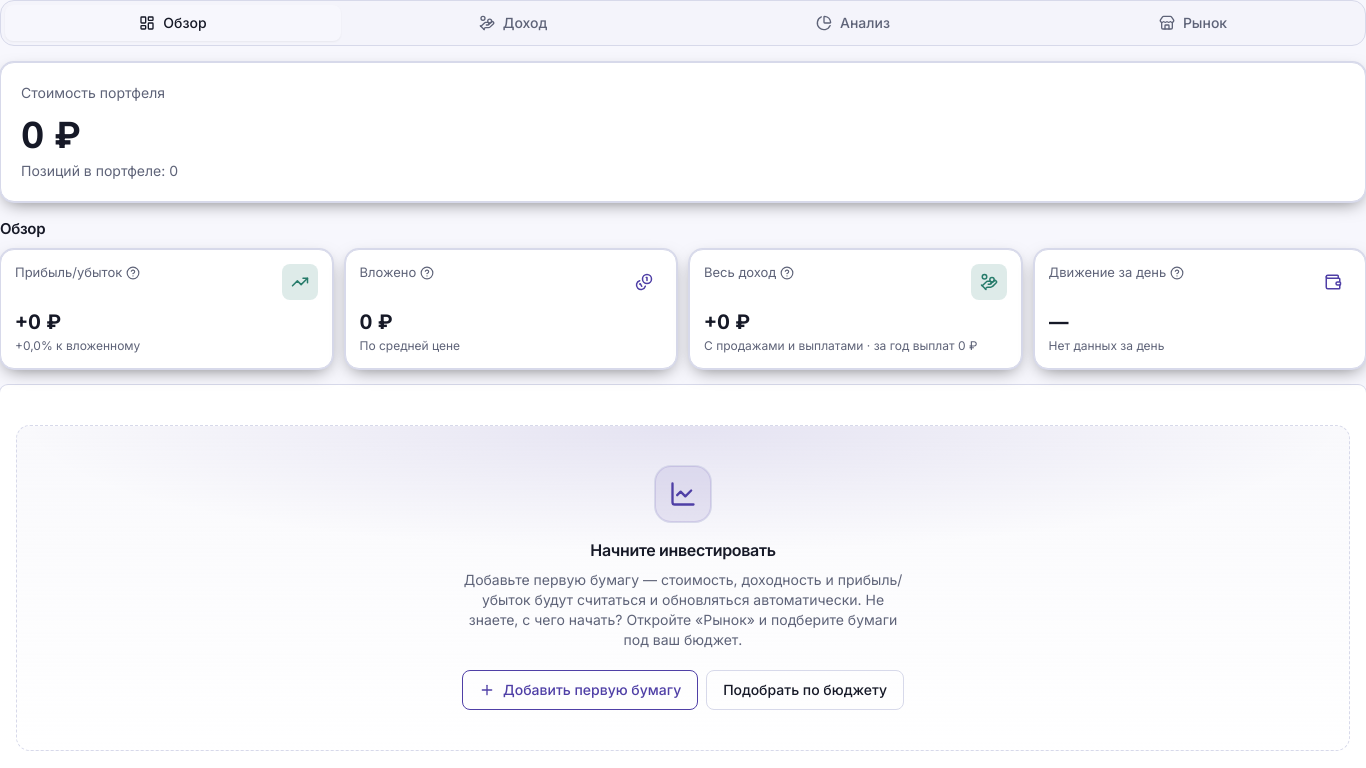
Scenario: manager smoke tests › InvestmentsView shows tabs and the picker on the Рынок tab
This screenshot has width=1366, height=768.
Click the button "Рынок": (1193, 23) [1025,5,1361,41]
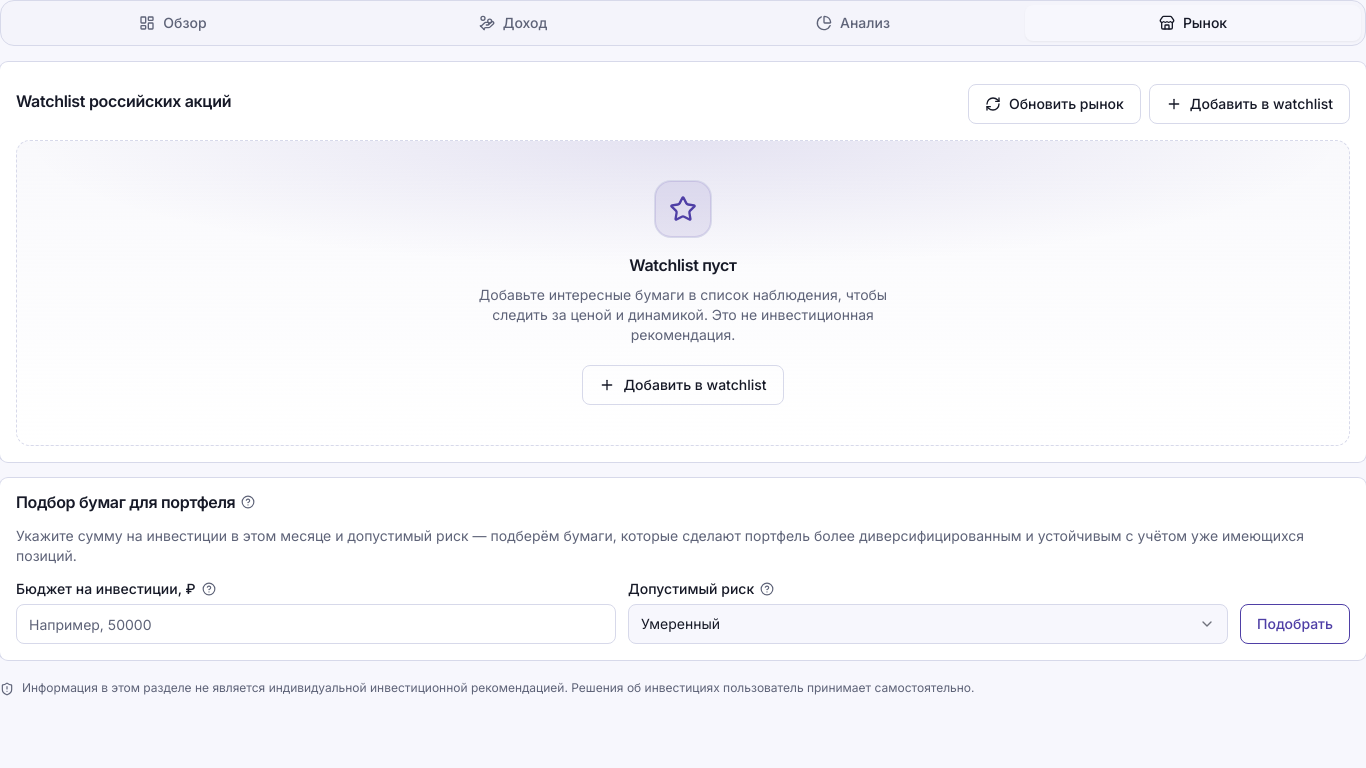
Result: the heading "Подбор бумаг для портфеля" is shown at [16,492,255,512]
